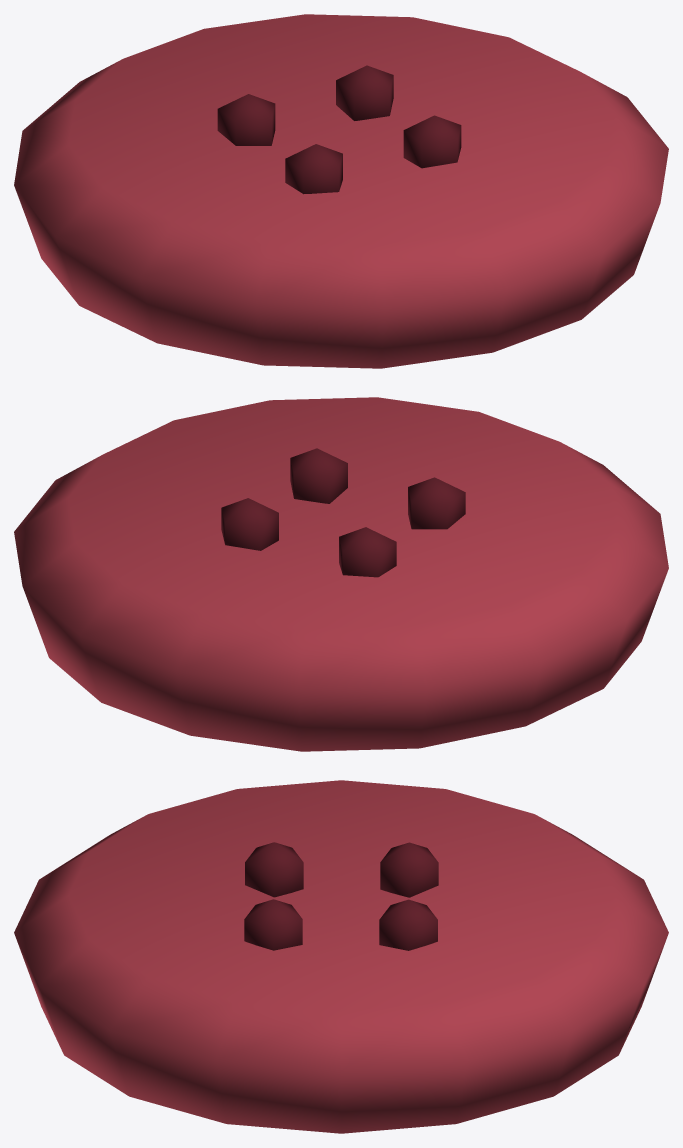
Rendered from Hut_Button.fbx.
3 views of the same model, one above another, from view 1: azimuth 30°, elevation 25°; view 2: azimuth 150°, elevation 25°; view 3: azimuth 270°, elevation 25° (orthographic).
Parts seen in each view (by area): view 1: Hut_Button; view 2: Hut_Button; view 3: Hut_Button.
Part boxes in pixels (bbox=[...]): Hut_Button: bbox=[14, 14, 668, 368]; Hut_Button: bbox=[14, 397, 668, 751]; Hut_Button: bbox=[14, 780, 668, 1133].
Size of the model in its own units: 1.2 by 0.275 by 1.2.
